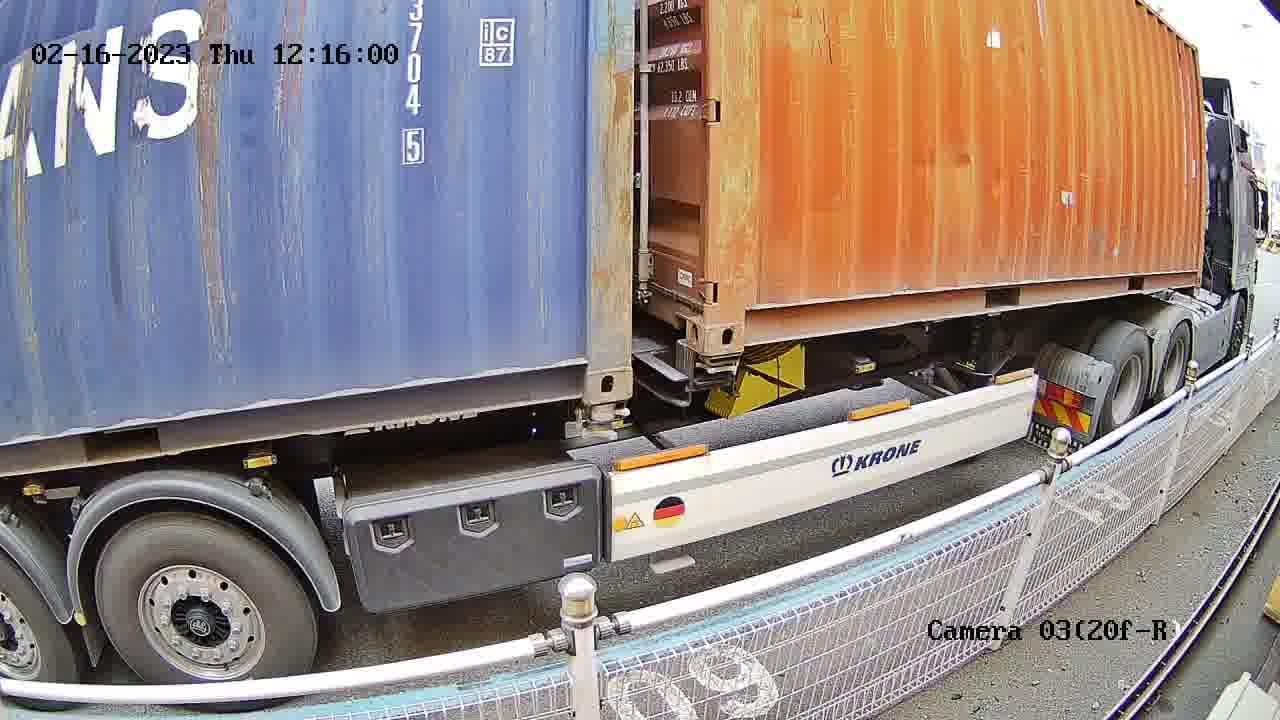Cone: (576, 400, 632, 444), (694, 349, 749, 382)
Hole_L: (706, 273, 777, 356)
Hole_R: (531, 308, 632, 404), (651, 263, 704, 356)
Tire: (94, 514, 317, 682), (1, 557, 81, 680), (1101, 334, 1153, 430), (1157, 325, 1194, 394)
